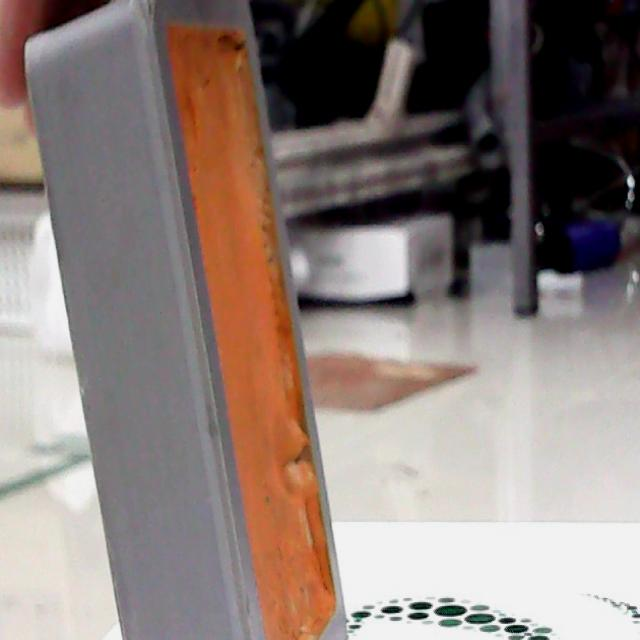block: (14, 0, 361, 640)
